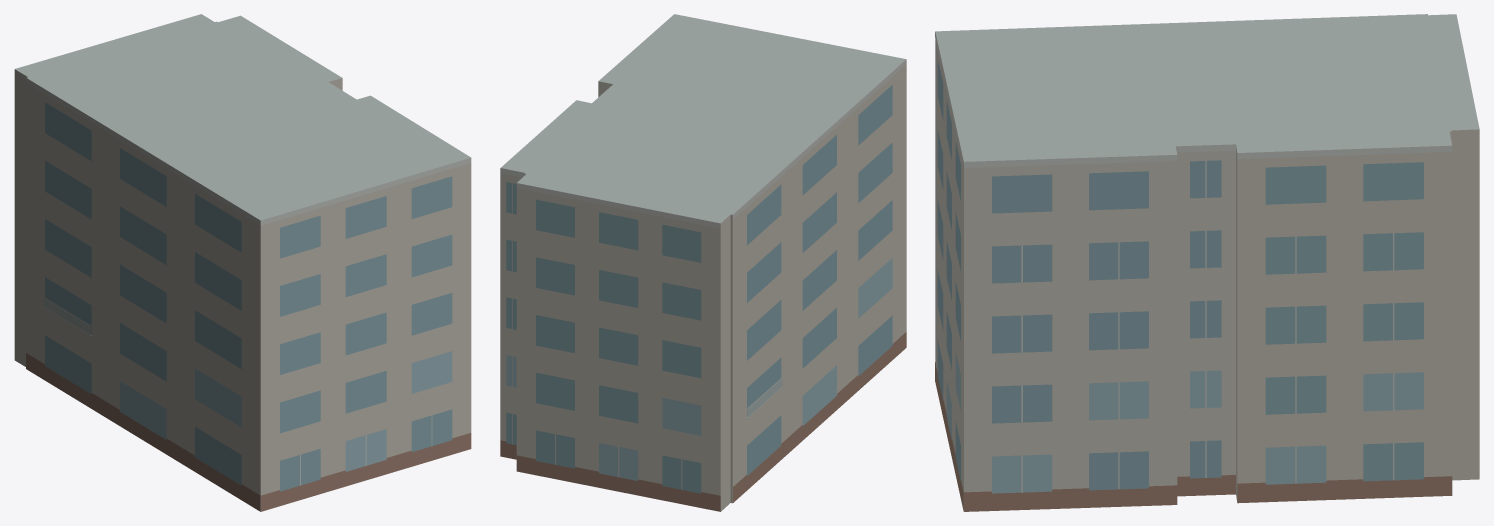
Rendered from survey-upis-32662908.glb.
The picture shows the model from 3 angles, left to right: view 1: azimuth 30°, elevation 25°; view 2: azimuth 150°, elevation 25°; view 3: azimuth 270°, elevation 25°; orthographic projection. The views are drawn at different scales.
Parts seen in each view (by area): view 1: survey-upis-32662908.tmp; view 2: survey-upis-32662908.tmp; view 3: survey-upis-32662908.tmp.
Part boxes in pixels (x1,y1,x2,y2): survey-upis-32662908.tmp: (14,14,471,511); survey-upis-32662908.tmp: (500,14,906,511); survey-upis-32662908.tmp: (935,14,1479,511).
Bounding box in the file's own units: 12.47 × 13.76 × 19.41.
